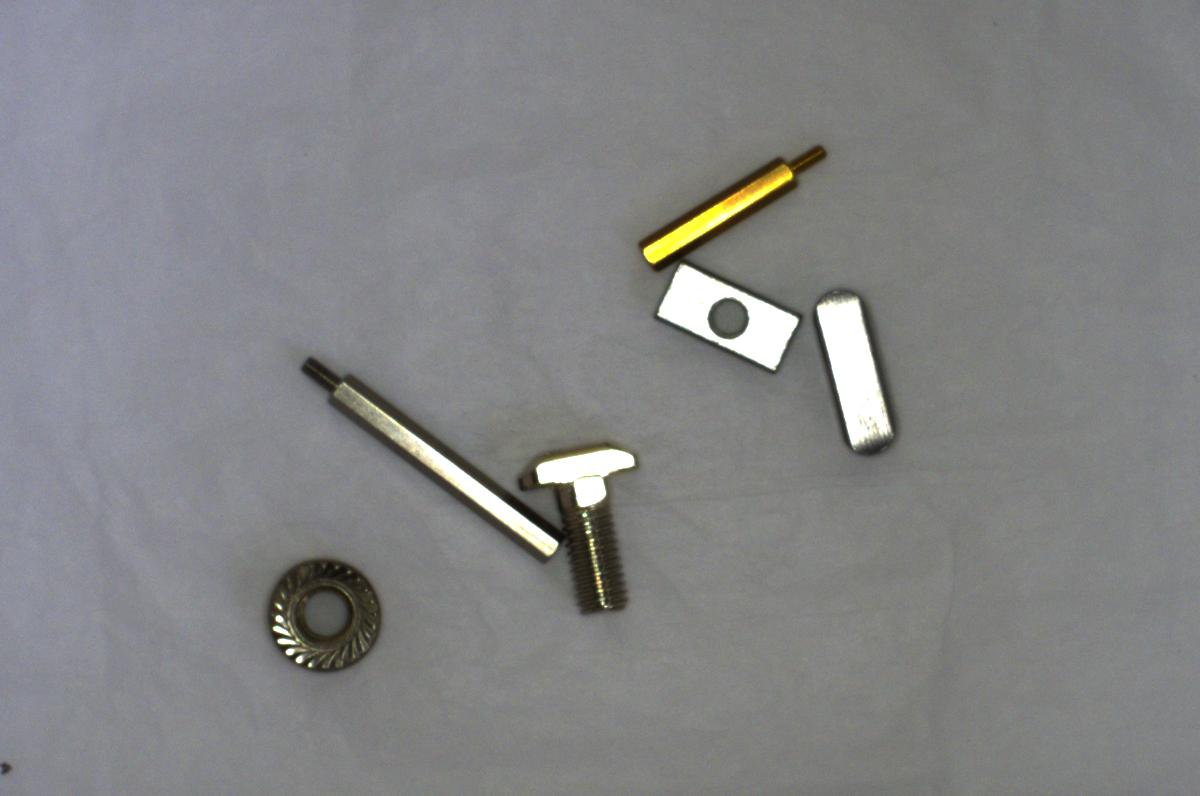Flange nut: (258, 548, 393, 679)
Hexagon pillar: (639, 130, 831, 273)
Hexagonal steel column: (288, 352, 562, 565)
Keybar: (807, 285, 899, 459)
Rectangular nut: (655, 263, 804, 376)
T-shaped screw: (518, 438, 648, 628)
